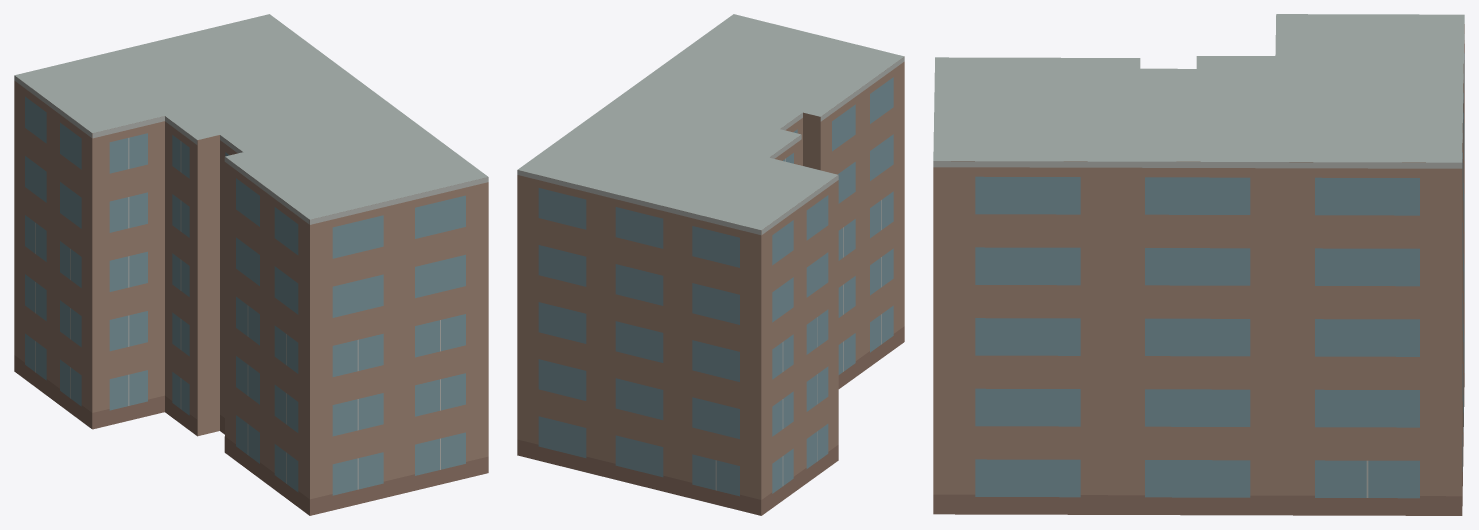
The model's file is survey-upis-32981488.glb.
3 views of the same model, side by side, from view 1: azimuth 30°, elevation 25°; view 2: azimuth 150°, elevation 25°; view 3: azimuth 270°, elevation 25° (orthographic). The views are drawn at different scales.
Visible parts, largest first — view 1: survey-upis-32981488.tmp; view 2: survey-upis-32981488.tmp; view 3: survey-upis-32981488.tmp.
Part boxes in pixels (x1,y1,x2,y2): survey-upis-32981488.tmp: (14,14,488,515); survey-upis-32981488.tmp: (517,14,904,515); survey-upis-32981488.tmp: (933,14,1464,515).
Size of the model in its own units: 12.54 by 13.9 by 18.96.
